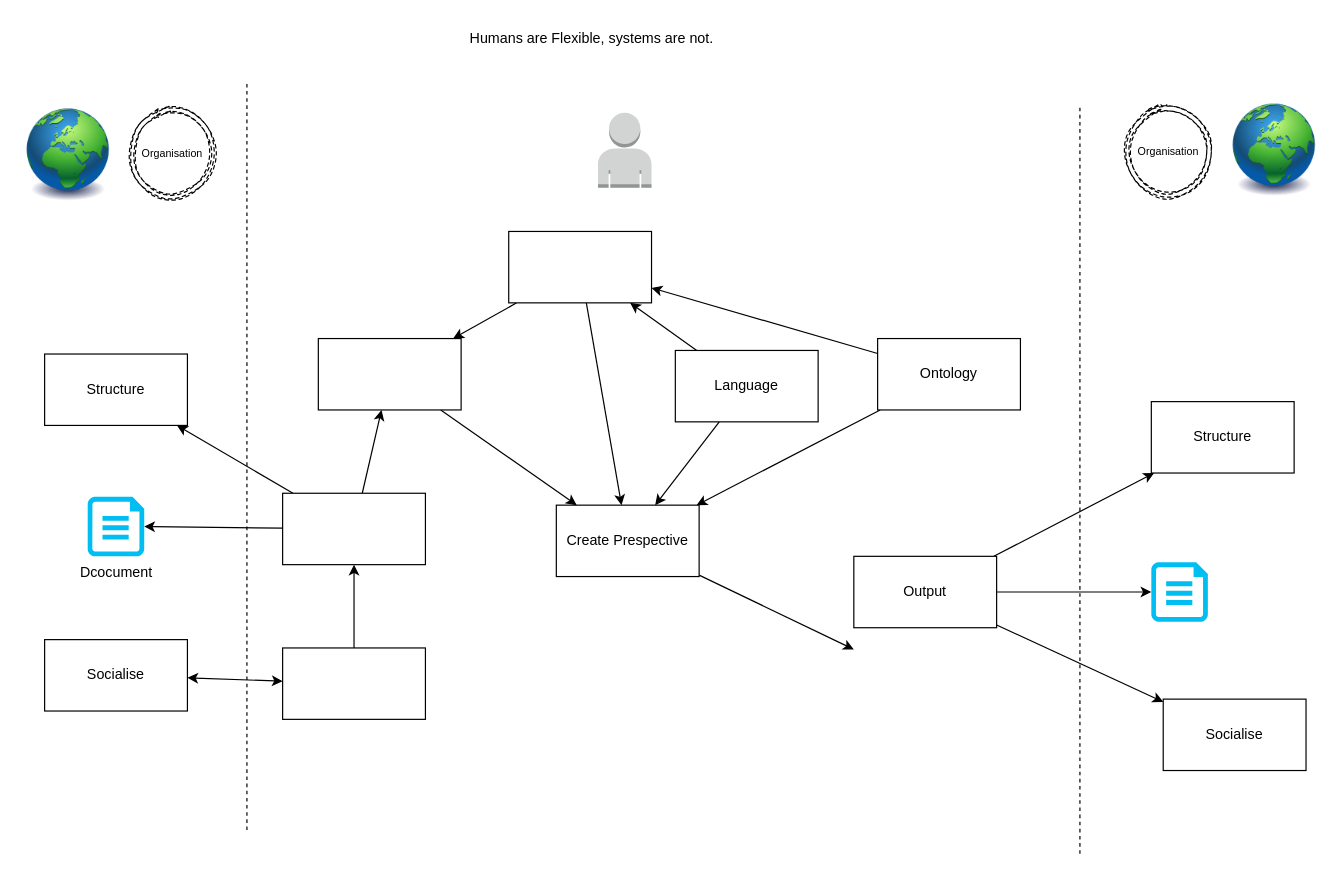
The diagram is 1342 pixels wide and 876 high, and some of its shapes have lost their labels. Here are the shapes that lost their labels. From the top down, the centre of each, then its label:
At (x=580, y=266): "Conginitive Model".
At (x=389, y=373): "Interpret".
At (x=353, y=528): "Observe".
At (x=1179, y=591): "Document".
At (x=353, y=683): "Input".
